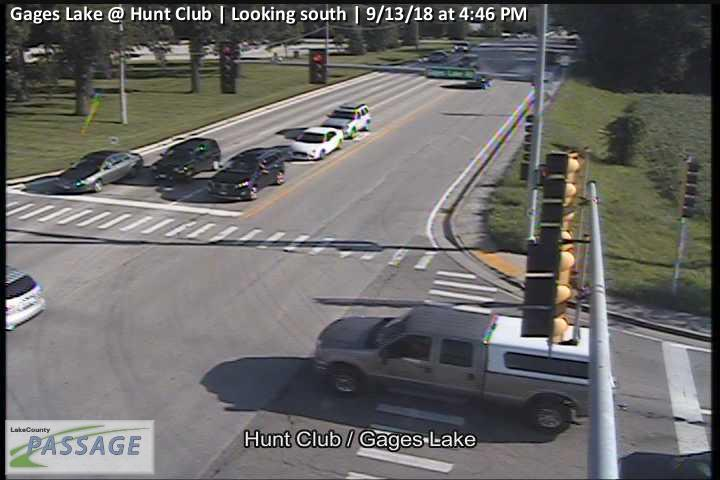SUV: (312, 303, 616, 435), (207, 148, 288, 201), (150, 138, 220, 186), (321, 101, 370, 140)
Sedan: (55, 150, 143, 195), (287, 126, 343, 160)
